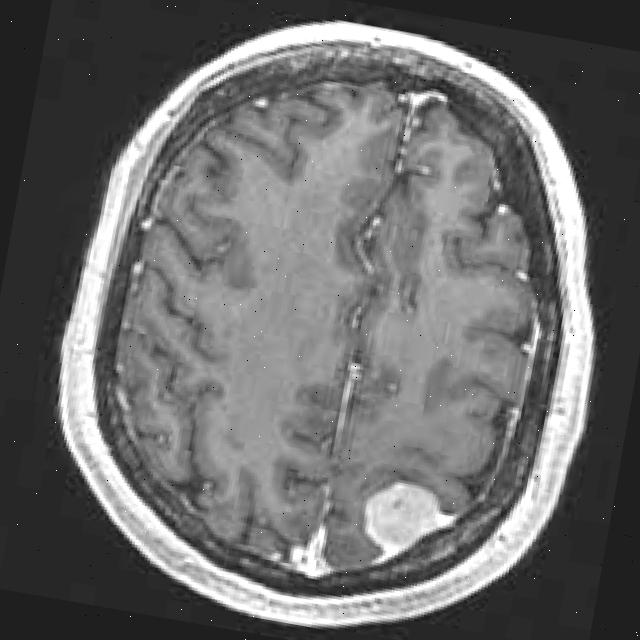tumor: (362, 481, 456, 562)
